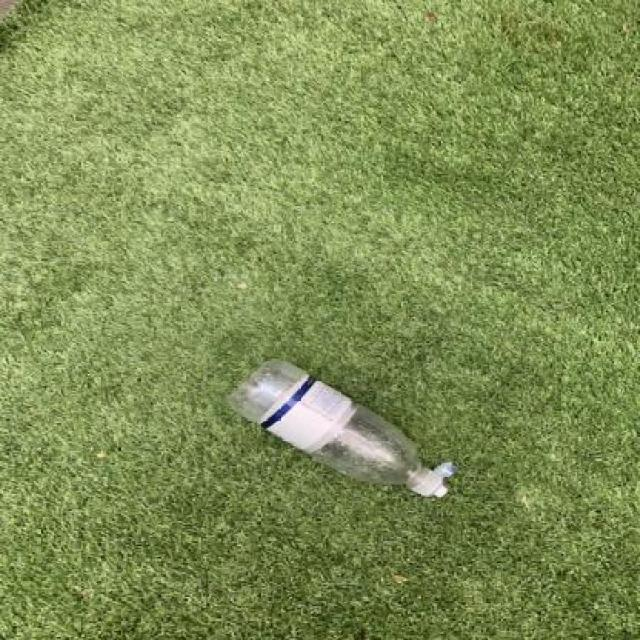trash: (227, 357, 462, 501)
